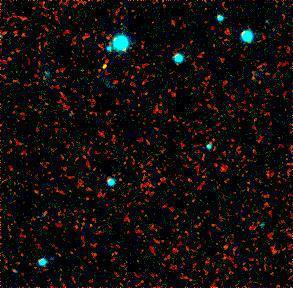star: (89, 58, 119, 88)
